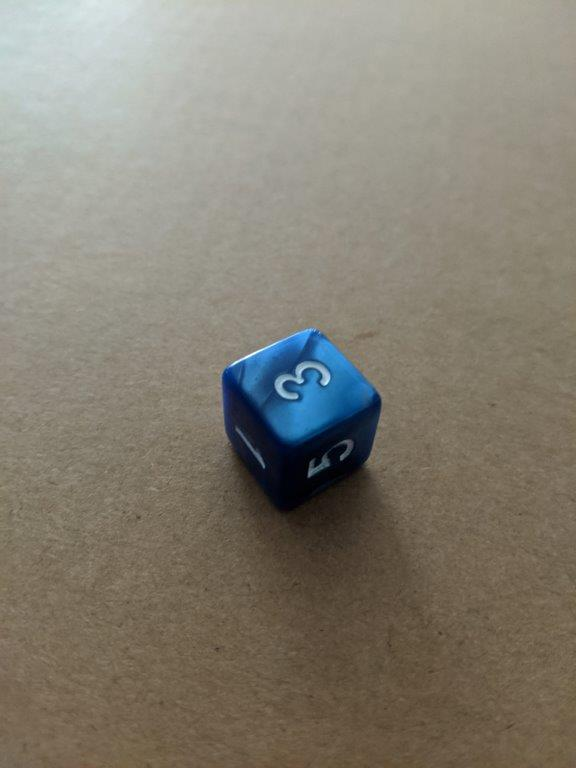d6-3: (221, 327, 383, 513)
